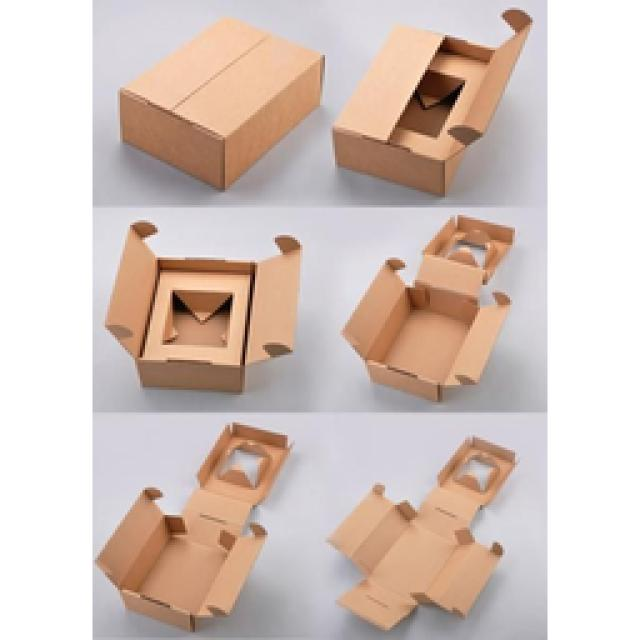cardboard: (92, 423, 294, 634), (333, 7, 535, 198), (326, 435, 516, 633), (118, 15, 324, 191), (104, 220, 302, 394), (341, 213, 516, 403)
